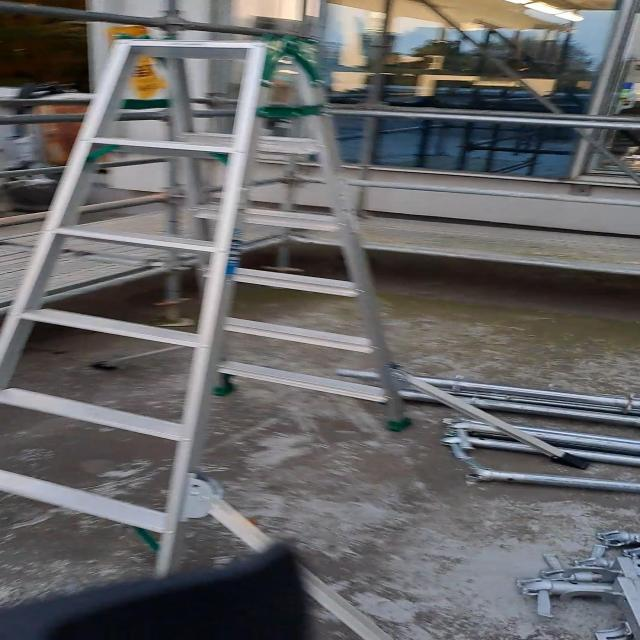boots: (1, 34, 600, 640)
